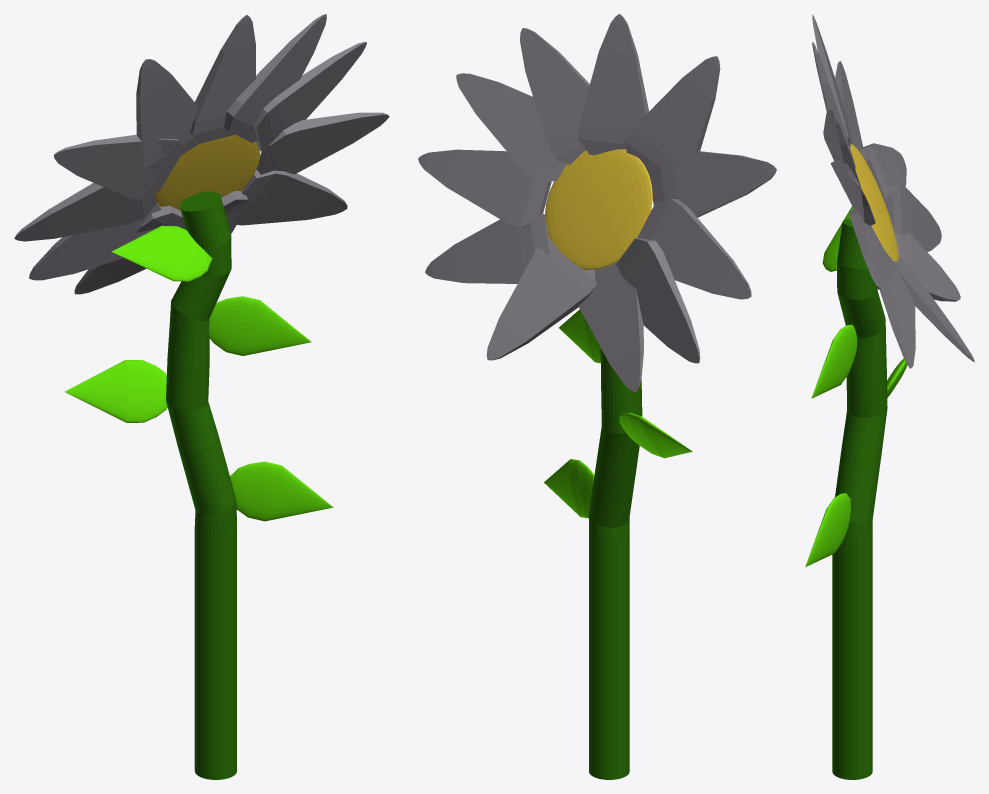
File: silverFlower.fbx
3 views of the same model, side by side, from view 1: azimuth 30°, elevation 25°; view 2: azimuth 150°, elevation 25°; view 3: azimuth 270°, elevation 25° (orthographic). The views are drawn at different scales.
Parts seen in each view (by area): view 1: silverFlower; view 2: silverFlower; view 3: silverFlower.
Part boxes in pixels (box(x1,y1,x2,y2)): silverFlower: box(14, 14, 389, 779); silverFlower: box(418, 14, 776, 779); silverFlower: box(805, 14, 974, 779).
Size of the model in its own units: 15.18 by 30.94 by 6.49.
